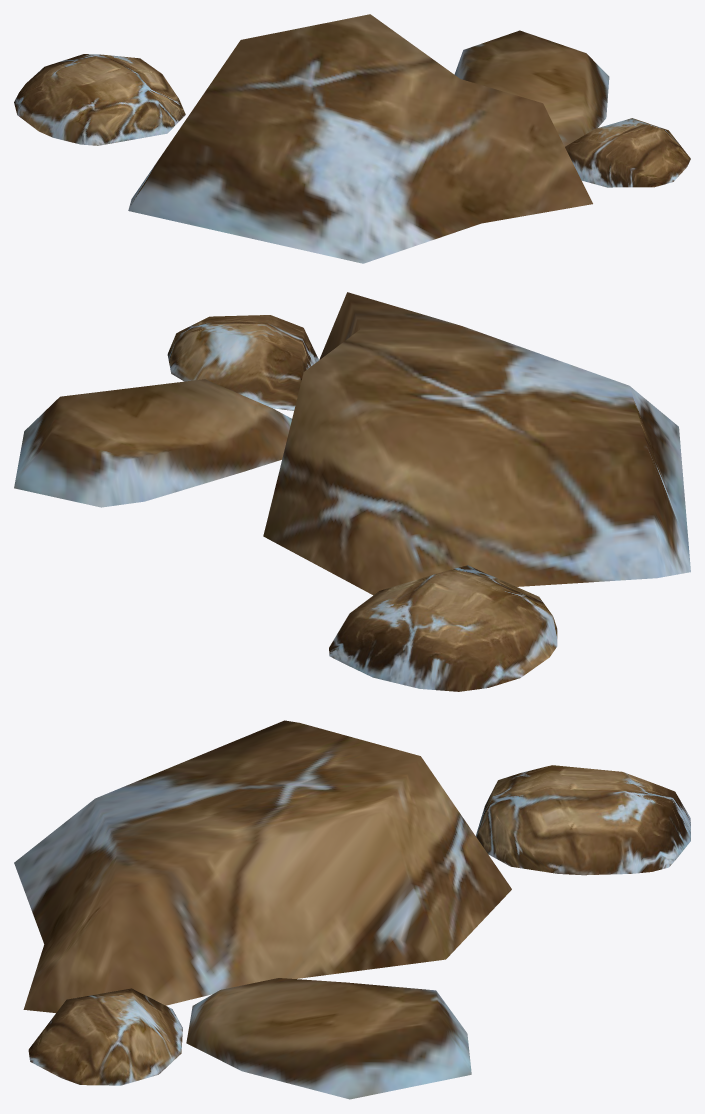
The model's file is Stage_BingYuan_ShiDui05.FBX.
The picture shows the model from 3 angles, top to bottom: view 1: azimuth 30°, elevation 25°; view 2: azimuth 150°, elevation 25°; view 3: azimuth 270°, elevation 25°; orthographic projection. The views are drawn at different scales.
Visible parts, largest first — view 1: Stage_BingYuan_ShiDui05; view 2: Stage_BingYuan_ShiDui05; view 3: Stage_BingYuan_ShiDui05.
Part boxes in pixels (<box>): Stage_BingYuan_ShiDui05: <box>14,14,690,263</box>; Stage_BingYuan_ShiDui05: <box>14,292,690,691</box>; Stage_BingYuan_ShiDui05: <box>14,720,690,1099</box>.
Size of the model in its own units: 108 by 22.73 by 98.53.
